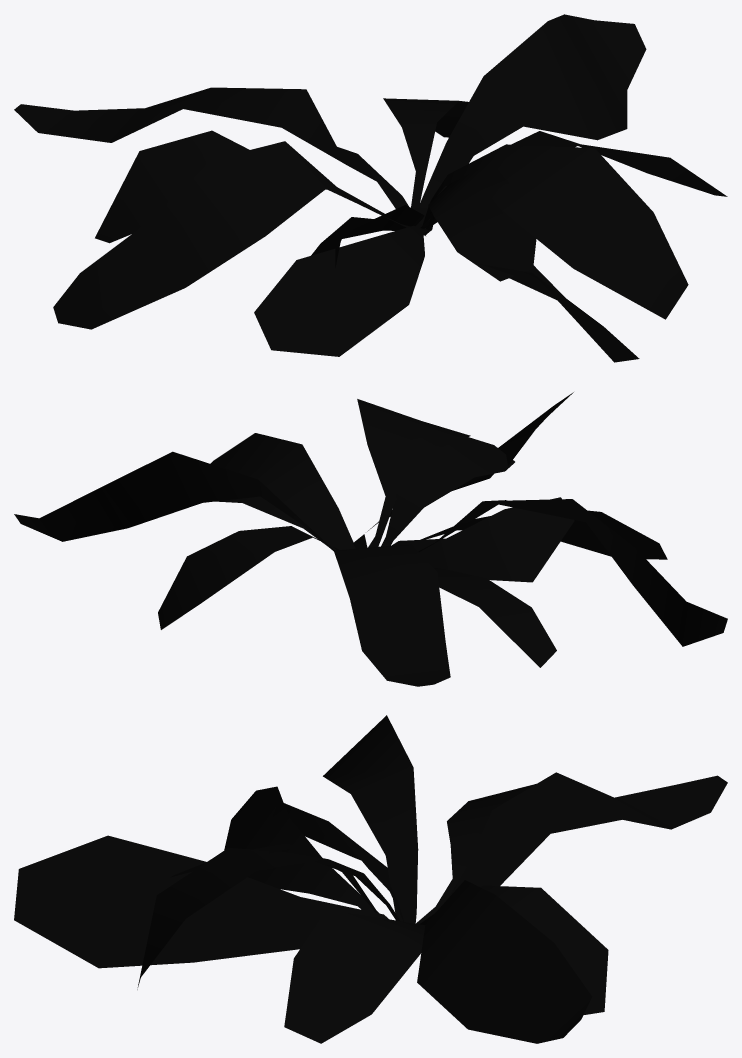
Rendered from dandelionC.glb.
3 renders of one model, top to bottom at view 1: azimuth 30°, elevation 25°; view 2: azimuth 150°, elevation 25°; view 3: azimuth 270°, elevation 25°, orthographic. The views are drawn at different scales.
Visible parts, largest first — view 1: dandelion_01_e_LOD3; view 2: dandelion_01_e_LOD3; view 3: dandelion_01_e_LOD3.
Part boxes in pixels (x1,y1,x2,y2): dandelion_01_e_LOD3: [14, 14, 727, 362]; dandelion_01_e_LOD3: [14, 392, 727, 686]; dandelion_01_e_LOD3: [14, 715, 727, 1043].
Bounding box in the file's own units: 0.2099 × 0.0434 × 0.1998.
Materials: 1 (1 with a texture image).
